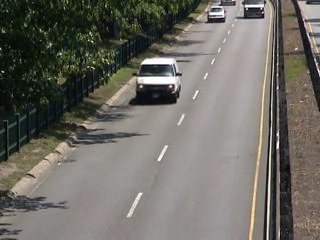car: (207, 6, 227, 25)
truck: (132, 57, 186, 106), (241, 1, 268, 21)
